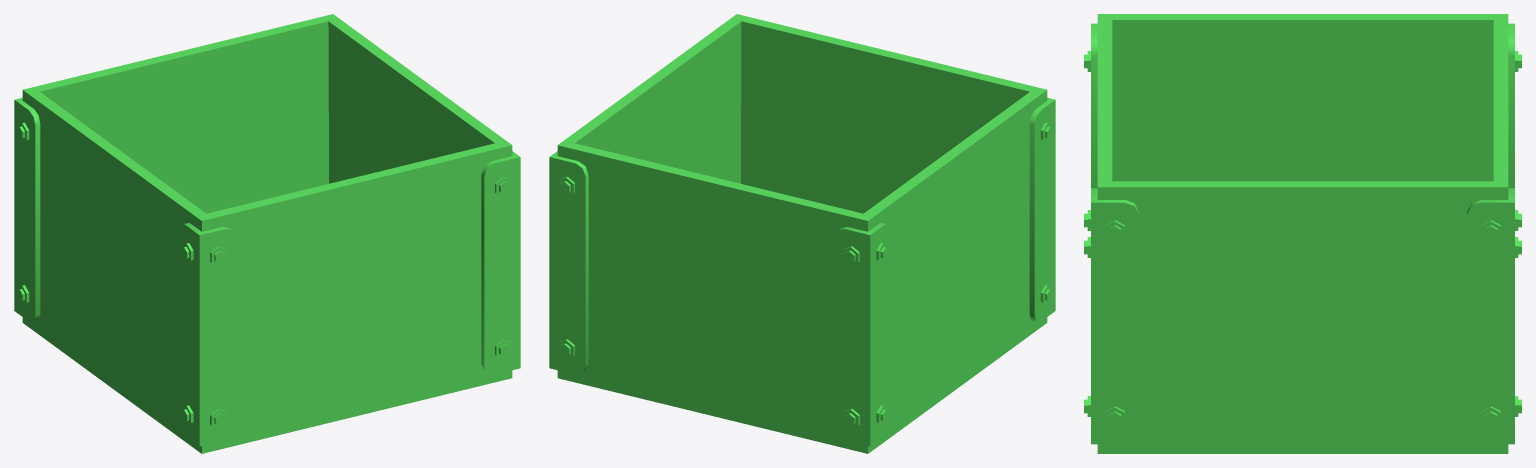
File: SM_town_box.fbx
3 renders of one model, left to right at view 1: azimuth 30°, elevation 25°; view 2: azimuth 150°, elevation 25°; view 3: azimuth 270°, elevation 25°, orthographic. The views are drawn at different scales.
Visible parts, largest first — view 1: box_low; view 2: box_low; view 3: box_low.
Boxes of the visible parts, left/top/right/bottom form: box_low: left=14, top=14, right=520, bottom=453; box_low: left=549, top=14, right=1055, bottom=453; box_low: left=1084, top=14, right=1521, bottom=453.
Bounding box in the file's own units: 64 × 43 × 63.99.
